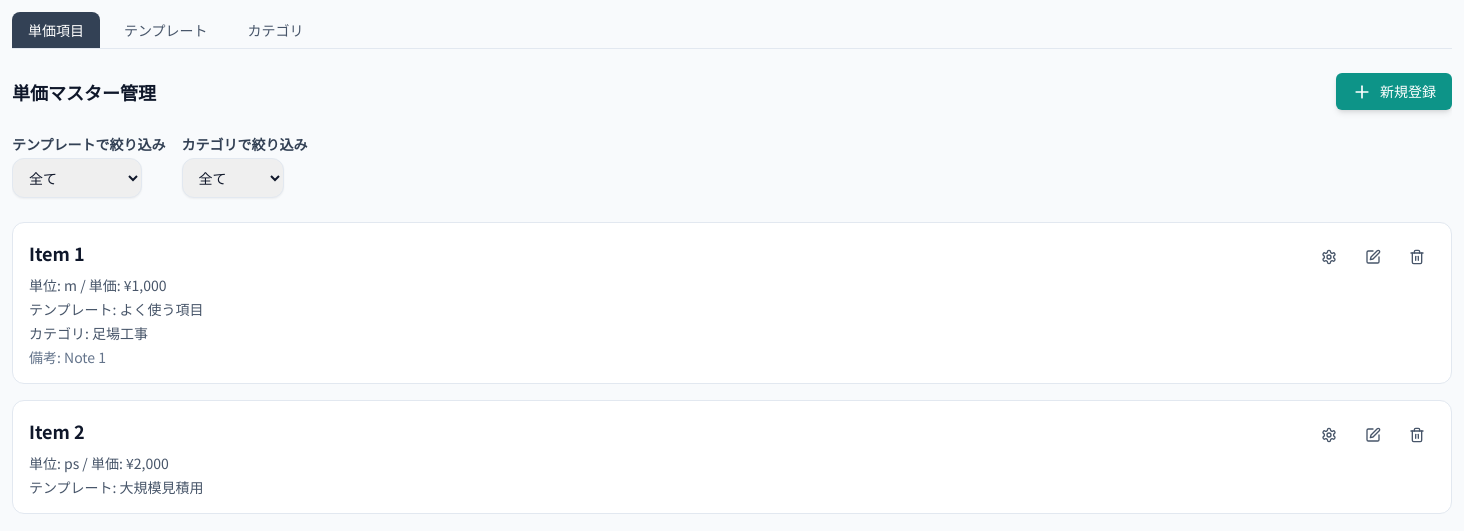
Test case: UnitPriceMasterSettings › should filter items by template
The image size is (1464, 531).
# First combobox is template filter
Select "よく使う項目" in the dropdown below "テンプレートで絞り込み" at (77, 178), box [12,158,142,198]
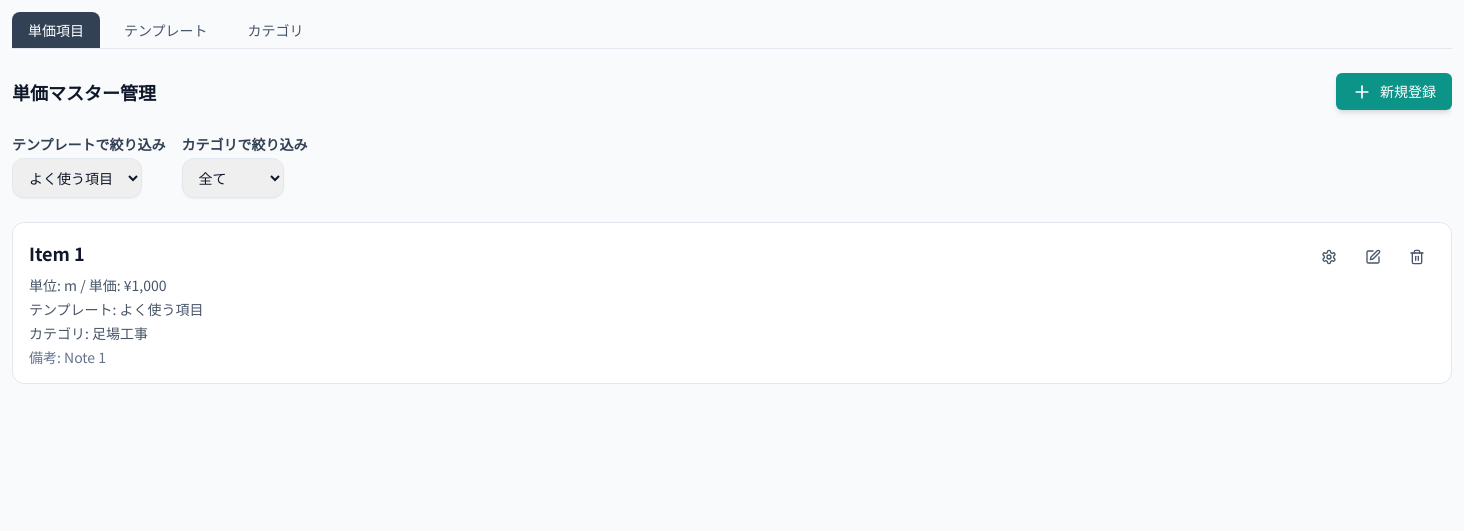
Expected: the heading "Item 1" is shown, [29,240,85,266]
Expected: the heading "Item 2" is gone
